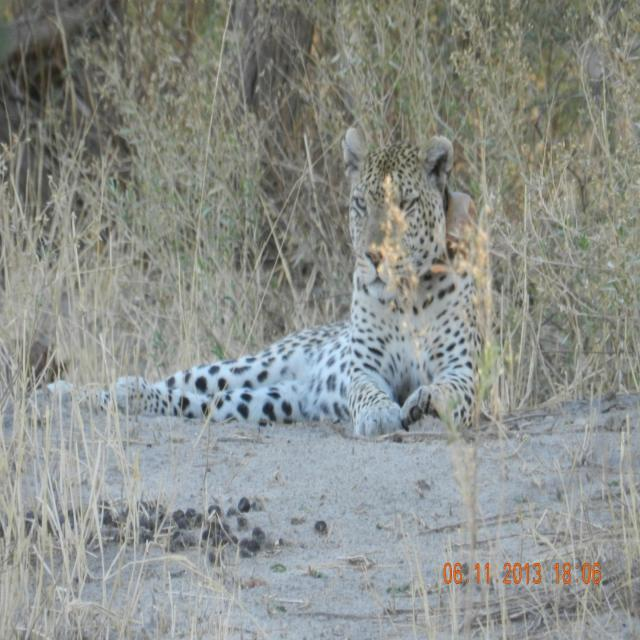Leopard: (29, 128, 487, 433)
